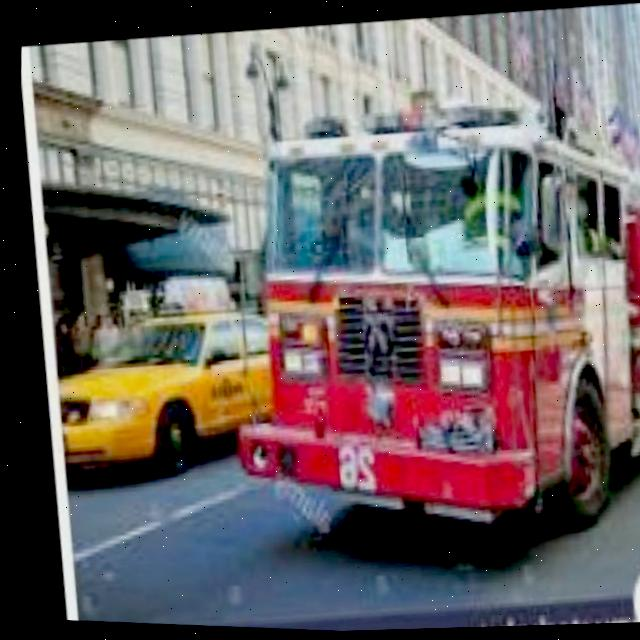emergency: (206, 68, 640, 568)
